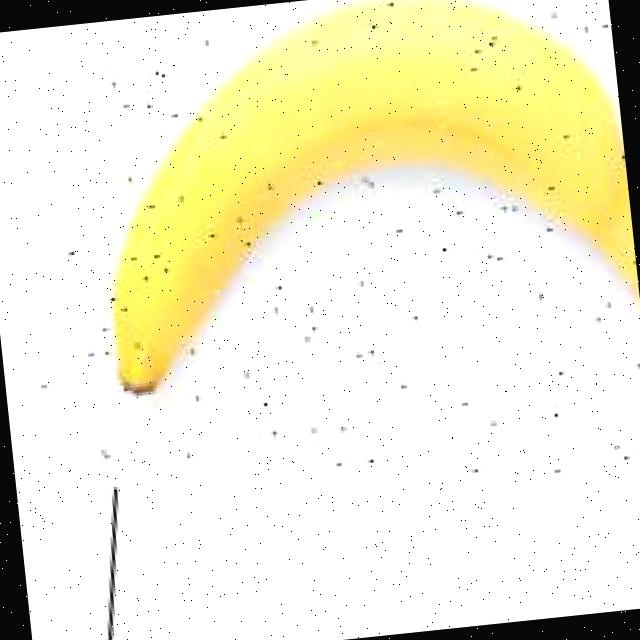banana: (53, 0, 640, 496)
